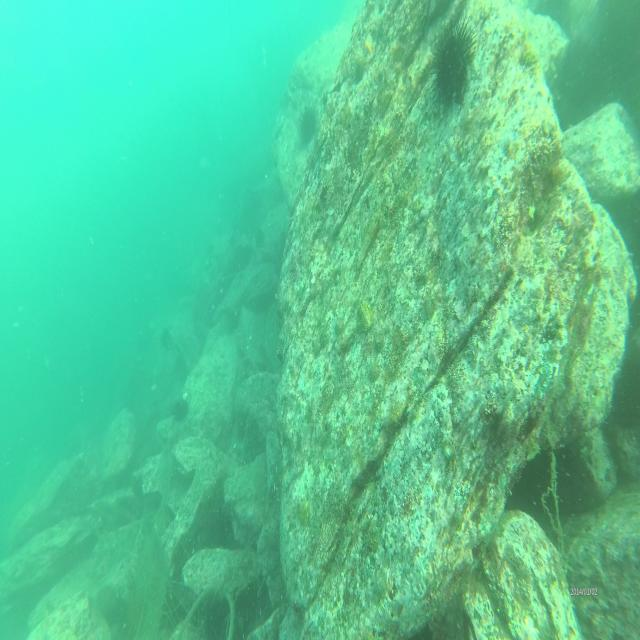echinus: (431, 16, 478, 113), (299, 104, 316, 146), (171, 392, 192, 423)
